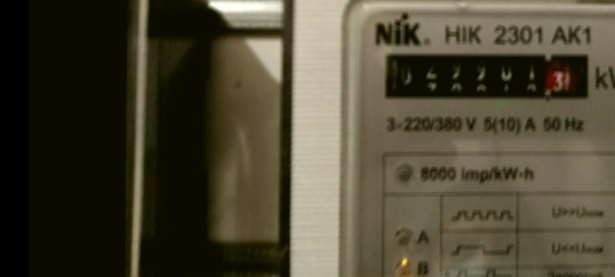0: (498, 56, 512, 82), (397, 63, 413, 84)
1: (523, 58, 536, 81)
2: (422, 60, 438, 79)
3: (550, 69, 563, 91)
9: (473, 58, 487, 80), (448, 58, 460, 80)
screen: (371, 43, 598, 108)
